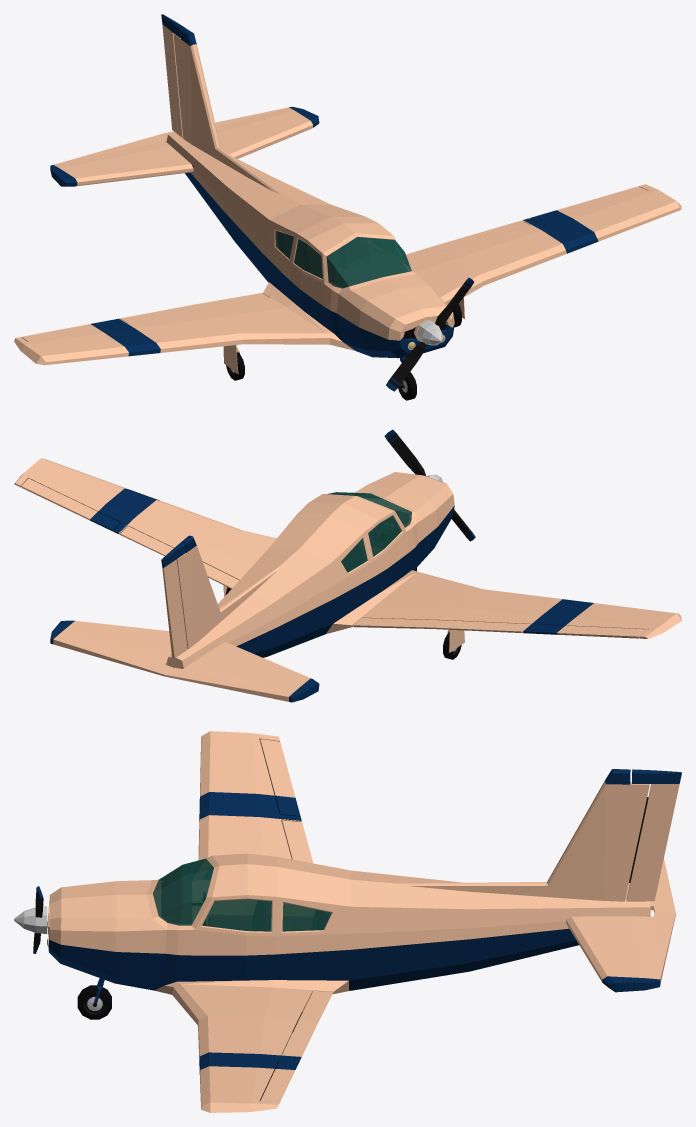
The model's file is LightAircraft_02.FBX.
3 views of the same model, one above another, from view 1: azimuth 30°, elevation 25°; view 2: azimuth 150°, elevation 25°; view 3: azimuth 270°, elevation 25° (orthographic). The views are drawn at different scales.
Visible parts, largest first — view 1: LightAircraft_02, elevator, interior, propeller, rudder, flaps_r, flaps_l, aileron_l, seat_f_l, aileron_r; view 2: LightAircraft_02, elevator, rudder, interior, flaps_r, aileron_l, aileron_r, flaps_l, propeller, seat_f_r; view 3: LightAircraft_02, elevator, interior, rudder, aileron_r, flaps_l, propeller, aileron_l, wheel_f, flaps_r, seat_f_r.
Part boxes in pixels (box(x1,y1,x2,y2)): LightAircraft_02: box(14, 27, 681, 365); elevator: box(50, 106, 319, 186); interior: box(275, 230, 410, 288); propeller: box(386, 277, 474, 391); rudder: box(161, 14, 184, 138); flaps_r: box(120, 293, 269, 323); flaps_l: box(406, 220, 529, 261); aileron_l: box(530, 186, 647, 222); seat_f_l: box(339, 237, 369, 269); aileron_r: box(21, 319, 120, 341); LightAircraft_02: box(14, 458, 681, 668); elevator: box(50, 620, 319, 702); rudder: box(161, 542, 187, 658); interior: box(331, 492, 411, 571); flaps_r: box(353, 618, 529, 633); aileron_l: box(21, 478, 120, 531); aileron_r: box(530, 624, 647, 638); flaps_l: box(120, 526, 238, 588); propeller: box(384, 429, 475, 541); seat_f_r: box(343, 540, 375, 571); LightAircraft_02: box(47, 731, 650, 1112); elevator: box(566, 858, 675, 992); interior: box(153, 859, 331, 931); rudder: box(626, 769, 681, 901); aileron_r: box(260, 739, 300, 816); flaps_l: box(282, 991, 333, 1056); propeller: box(14, 886, 47, 953); aileron_l: box(260, 1058, 299, 1101); wheel_f: box(77, 985, 111, 1019); flaps_r: box(281, 820, 312, 863); seat_f_r: box(208, 901, 262, 930).
Bounding box in the file's own units: 130 × 97.46 × 39.97.
